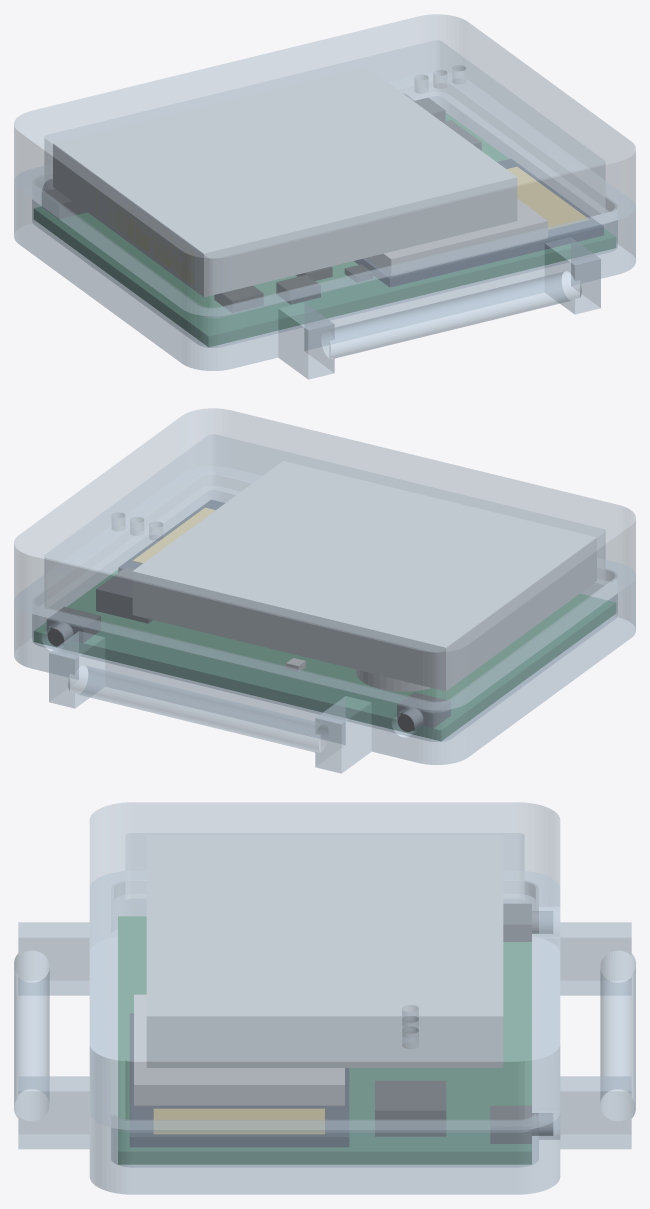
Rendered from assembly_pcb.glb.
3 renders of one model, top to bottom at view 1: azimuth 30°, elevation 25°; view 2: azimuth 150°, elevation 25°; view 3: azimuth 270°, elevation 25°, orthographic. The views are drawn at different scales.
Visible parts, largest first — view 1: Case lid, LiPo 402530 (3.7 V) 1, Case base, Custom PCB (4-layer) 1, ESP32-S3-MINI-1 module 2, ESP32-S3-MINI-1 module 1, ESP32-S3-MINI-1 module 3, Charger + power path 3, LiPo 402530 (3.7 V) 2, Charger + power path 1, Side-push buttons ×2 1; view 2: Case lid, LiPo 402530 (3.7 V) 1, Case base, Custom PCB (4-layer) 1, SMD buzzer 5 × 5 mm, Side-push buttons ×2 1, Side-push buttons ×2 3, ESP32-S3-MINI-1 module 3, Coin vibration motor 0825, ESP32-S3-MINI-1 module 1; view 3: Case lid, LiPo 402530 (3.7 V) 1, Case base, Custom PCB (4-layer) 1, ESP32-S3-MINI-1 module 2, ESP32-S3-MINI-1 module 1, ESP32-S3-MINI-1 module 3, SMD buzzer 5 × 5 mm, Side-push buttons ×2 3, Side-push buttons ×2 1.
Boxes of the visible parts, bbox=[...] form: Case lid: bbox=[14, 14, 635, 317]; LiPo 402530 (3.7 V) 1: bbox=[53, 67, 517, 297]; Case base: bbox=[14, 96, 635, 379]; Custom PCB (4-layer) 1: bbox=[34, 113, 615, 346]; ESP32-S3-MINI-1 module 2: bbox=[366, 199, 547, 276]; ESP32-S3-MINI-1 module 1: bbox=[354, 159, 603, 287]; ESP32-S3-MINI-1 module 3: bbox=[507, 167, 588, 229]; Charger + power path 3: bbox=[276, 275, 320, 304]; LiPo 402530 (3.7 V) 2: bbox=[97, 197, 194, 285]; Charger + power path 1: bbox=[214, 285, 263, 312]; Side-push buttons ×2 1: bbox=[42, 189, 86, 218]; Case lid: bbox=[14, 408, 635, 711]; LiPo 402530 (3.7 V) 1: bbox=[132, 461, 596, 691]; Case base: bbox=[14, 490, 635, 773]; Custom PCB (4-layer) 1: bbox=[34, 570, 615, 740]; SMD buzzer 5 × 5 mm: bbox=[96, 567, 152, 623]; Side-push buttons ×2 1: bbox=[397, 692, 450, 728]; Side-push buttons ×2 3: bbox=[47, 607, 100, 642]; ESP32-S3-MINI-1 module 3: bbox=[133, 507, 215, 563]; Coin vibration motor 0825: bbox=[355, 669, 430, 691]; ESP32-S3-MINI-1 module 1: bbox=[118, 499, 224, 572]; Case lid: bbox=[89, 802, 560, 1131]; LiPo 402530 (3.7 V) 1: bbox=[146, 835, 503, 1067]; Case base: bbox=[14, 871, 635, 1194]; Custom PCB (4-layer) 1: bbox=[118, 916, 531, 1164]; ESP32-S3-MINI-1 module 2: bbox=[134, 994, 344, 1105]; ESP32-S3-MINI-1 module 1: bbox=[129, 1013, 349, 1146]; ESP32-S3-MINI-1 module 3: bbox=[153, 1108, 324, 1134]; SMD buzzer 5 × 5 mm: bbox=[375, 1080, 446, 1136]; Side-push buttons ×2 3: bbox=[490, 1105, 531, 1143]; Side-push buttons ×2 1: bbox=[503, 903, 531, 941].
Bounding box in the file's own units: 0.043 × 0.0103 × 0.0436.
